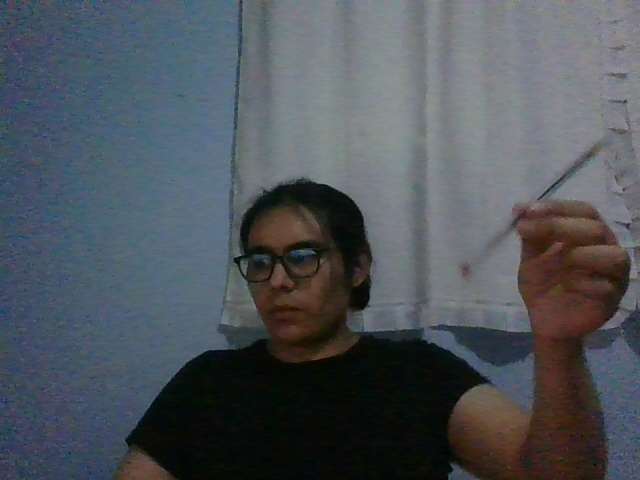pluma: (459, 136, 610, 279)
